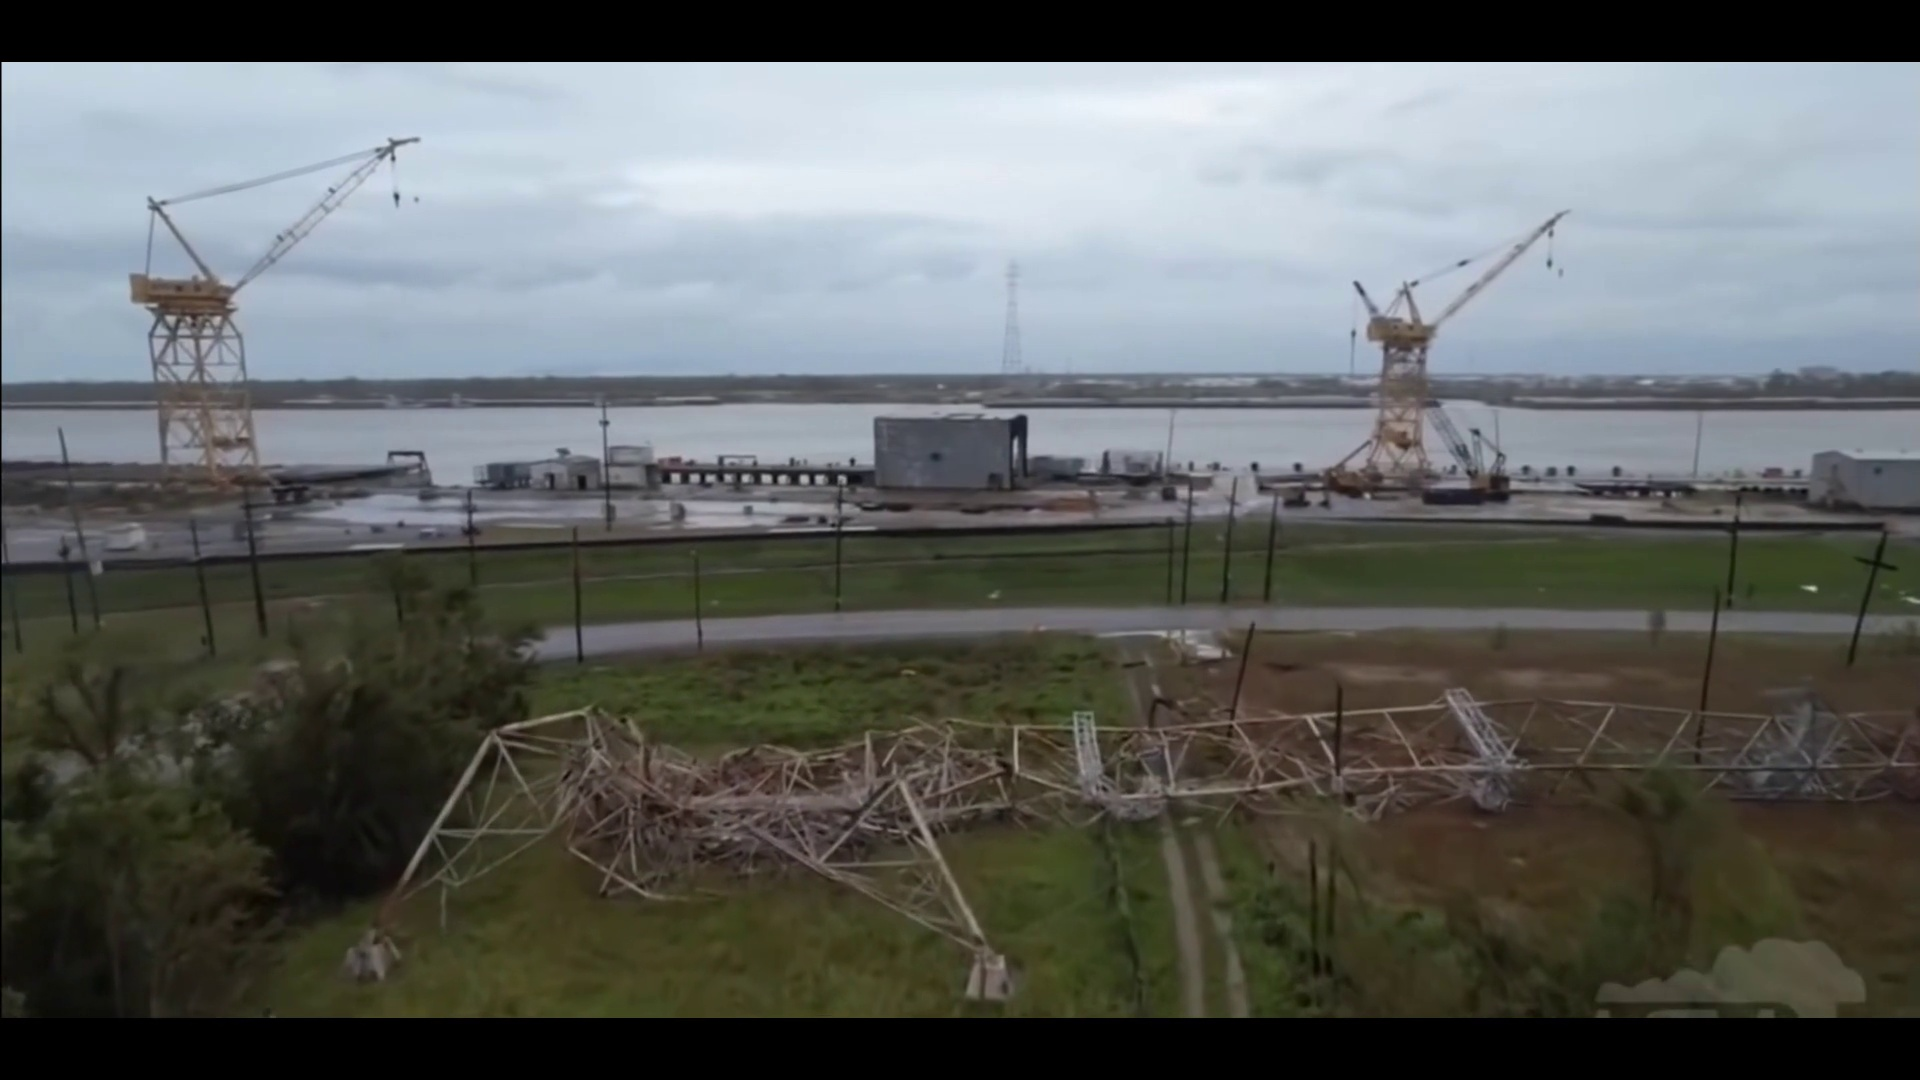tower_down: (409, 621, 1905, 876)
